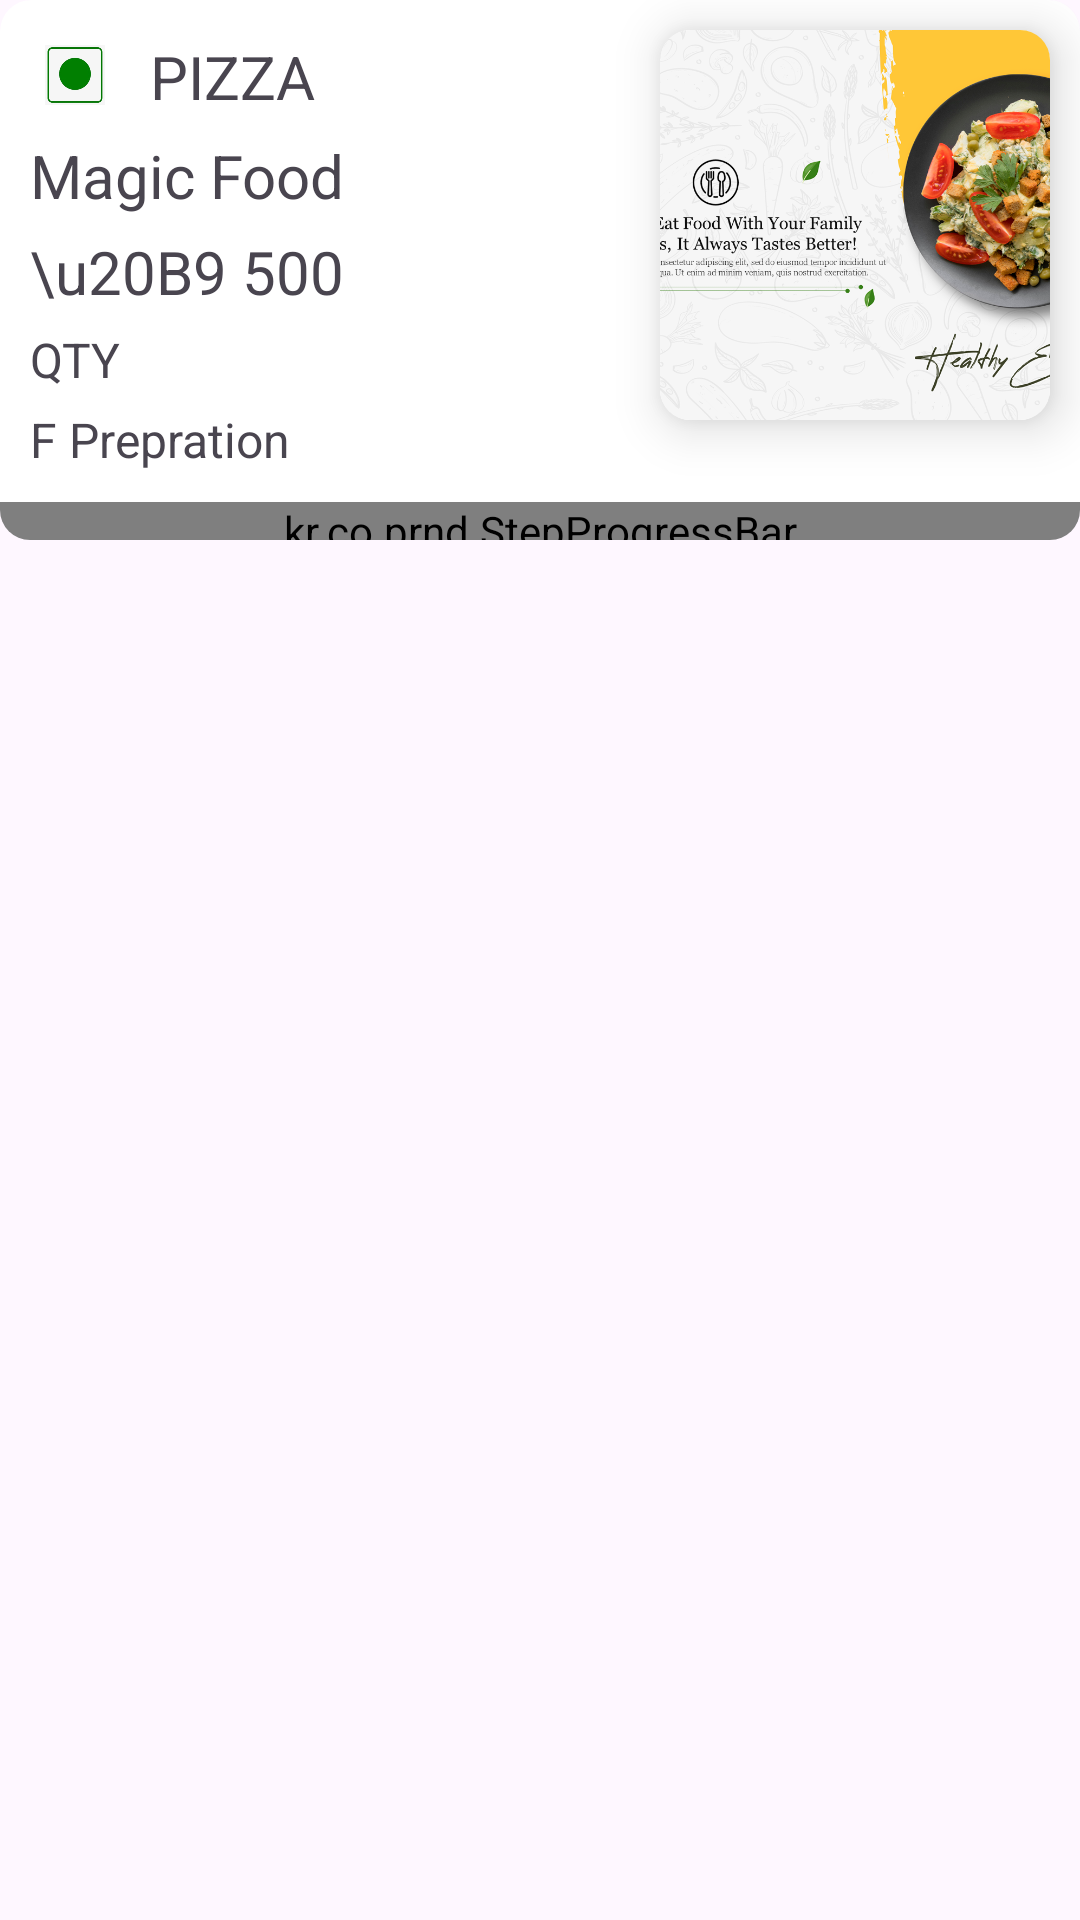

Icons on this 1080px x 1920px Android screen, each with the point to tap as [x,y]:
veg: [75,75]
